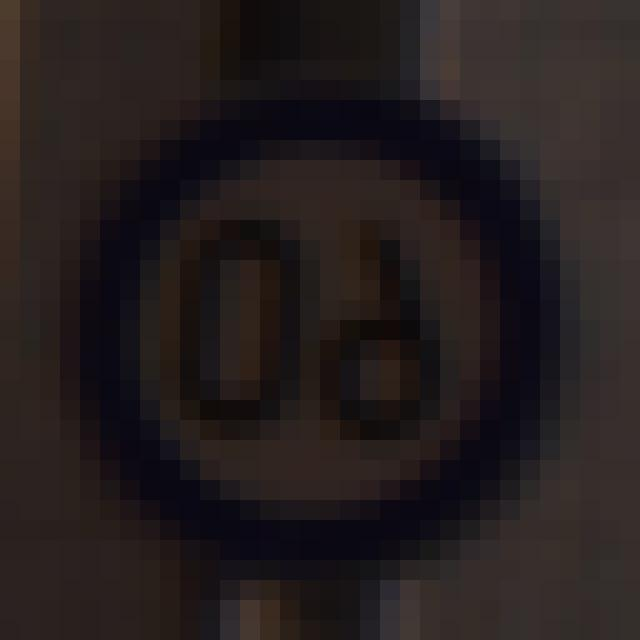SPEED-LIMIT-60: (50, 89, 588, 590)
